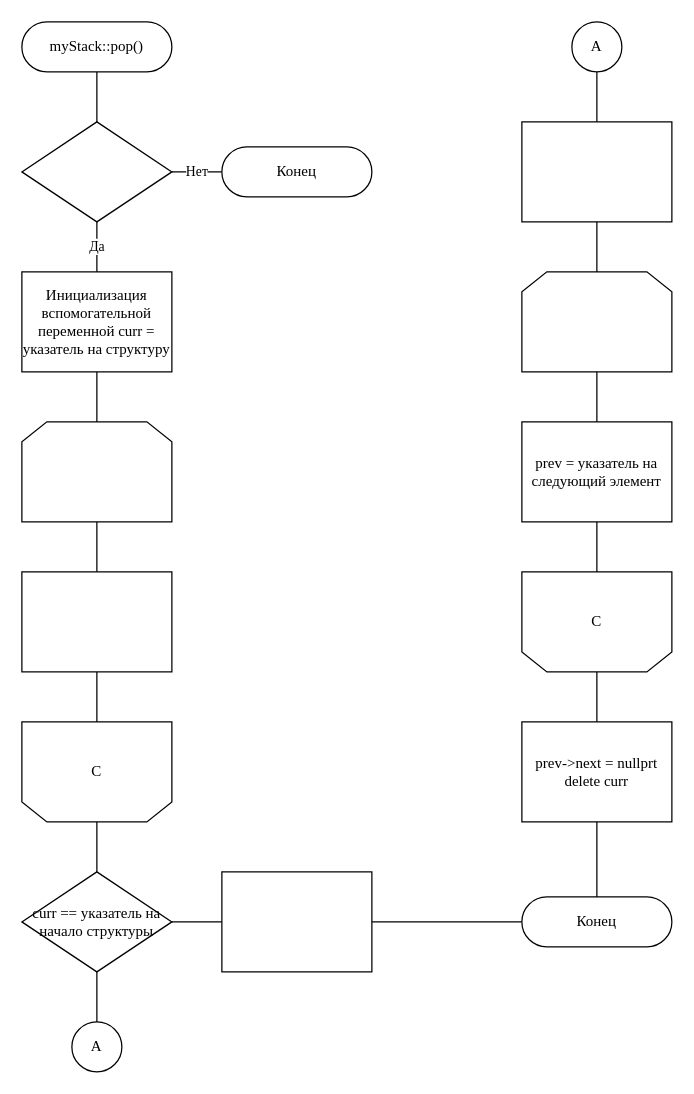
Some shapes in this 694 by 1094 pixel diagram are drawn without their labels. The shapes that lost their labels are listed below. From the top down, each one's centre as x and y in pixels, then its label:
At (x=96, y=171): "Указатель на структуру не нулевой".
At (x=596, y=171): "Инициализация вспомогательной переменной prev = указатель на структуру".
At (x=596, y=321): "C, пока следующий элемент != curr".
At (x=96, y=471): "C, пока curr != nullptr".
At (x=96, y=621): "curr = указатель на следующий элемент".
At (x=296, y=921): "sHead = nullprt delete curr".
